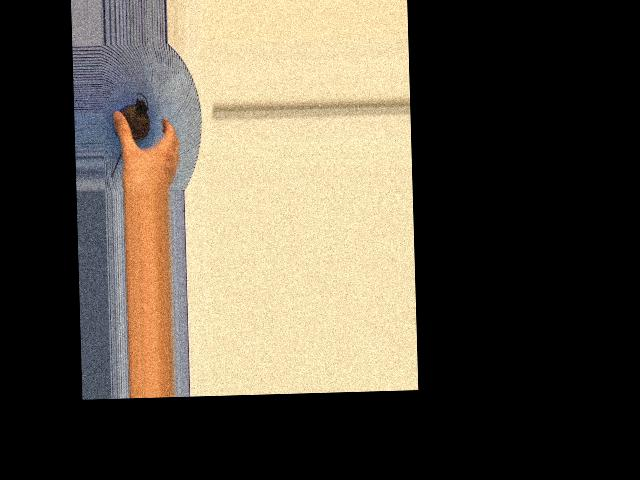beet: (108, 92, 151, 176)
